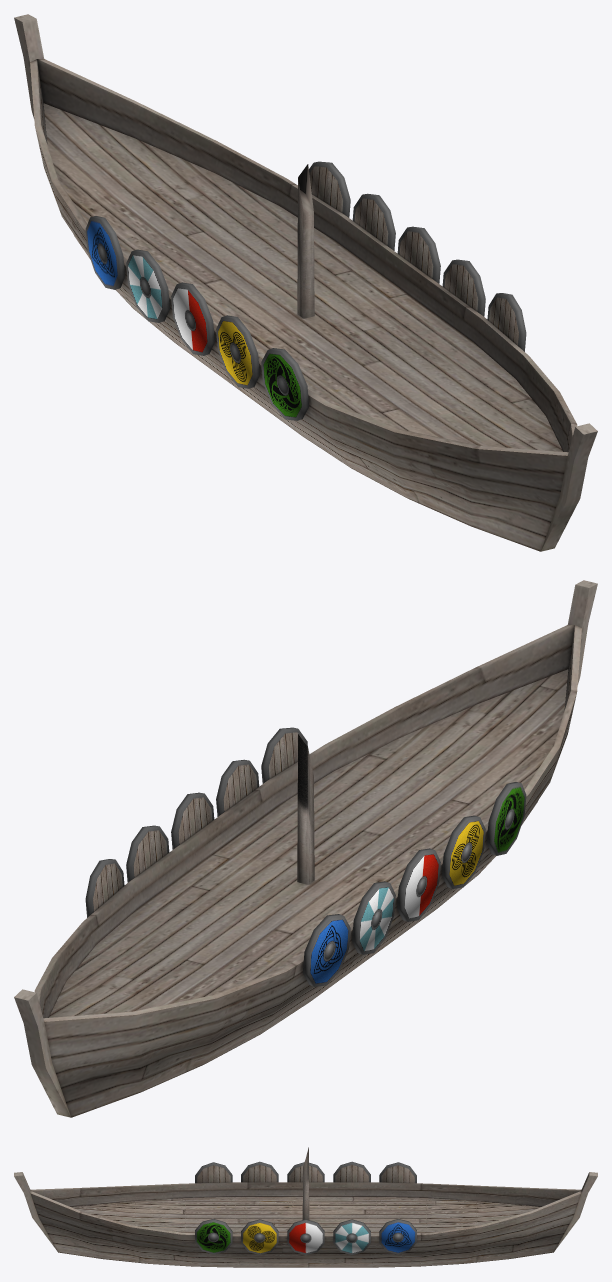
Rendered from VikingShip.fbx.
3 views of the same model, one above another, from view 1: azimuth 30°, elevation 25°; view 2: azimuth 150°, elevation 25°; view 3: azimuth 270°, elevation 25° (orthographic). The views are drawn at different scales.
Visible parts, largest first — view 1: Ship; view 2: Ship; view 3: Ship.
Part boxes in pixels (x1,y1,x2,y2): Ship: (14, 14, 597, 551); Ship: (14, 580, 597, 1117); Ship: (14, 1147, 597, 1267).
Bounding box in the file's own units: 6.4 × 5.31 × 26.61.
